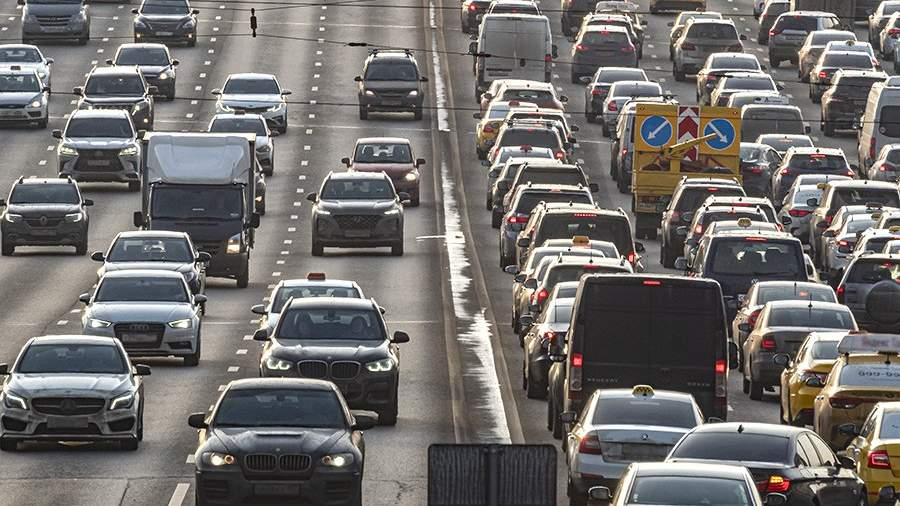Car: (547, 273, 728, 423), (187, 376, 379, 506), (252, 297, 410, 426), (133, 130, 260, 290), (558, 385, 708, 506), (0, 334, 153, 452), (663, 422, 868, 506), (631, 104, 743, 240), (78, 269, 208, 367), (691, 233, 809, 338), (739, 301, 860, 400), (814, 332, 900, 458), (92, 230, 212, 316), (728, 281, 839, 371), (772, 332, 866, 428), (305, 170, 409, 256), (503, 247, 605, 334), (588, 462, 787, 506), (518, 207, 645, 274), (499, 181, 594, 268), (808, 180, 900, 267), (50, 109, 145, 193), (470, 13, 558, 103), (655, 183, 747, 267), (251, 273, 366, 337), (0, 178, 93, 257), (837, 402, 900, 506), (341, 136, 427, 207), (525, 252, 634, 307), (519, 298, 576, 399), (72, 65, 154, 134), (818, 202, 900, 271), (511, 201, 600, 264), (836, 250, 900, 335), (199, 110, 280, 177), (355, 48, 428, 121), (489, 157, 563, 229), (498, 162, 599, 214), (210, 73, 292, 134), (768, 10, 852, 68), (774, 146, 859, 203), (853, 76, 900, 179), (677, 205, 770, 257), (654, 177, 740, 233), (481, 145, 555, 210), (673, 17, 749, 80), (820, 70, 888, 137), (105, 42, 179, 100), (569, 25, 639, 85), (577, 66, 649, 122), (473, 100, 539, 160), (515, 256, 558, 346), (696, 52, 766, 105), (602, 81, 663, 139), (808, 51, 876, 103), (823, 213, 881, 272), (488, 123, 569, 165), (740, 95, 810, 143), (17, 0, 90, 45), (130, 0, 199, 46), (0, 66, 50, 129), (798, 30, 858, 81), (701, 196, 785, 232), (570, 17, 642, 58), (0, 43, 55, 96), (484, 80, 569, 114), (777, 184, 824, 245), (668, 8, 723, 60), (512, 119, 575, 164), (839, 226, 900, 271), (685, 218, 780, 246), (710, 72, 784, 107), (547, 328, 570, 440), (740, 142, 783, 201), (561, 0, 626, 36), (505, 108, 579, 139), (782, 174, 853, 205), (476, 0, 540, 34), (790, 0, 856, 32), (529, 281, 580, 320), (477, 79, 527, 118), (614, 97, 681, 126), (582, 13, 642, 44), (824, 40, 882, 71), (616, 102, 673, 133), (865, 1, 900, 49), (540, 237, 620, 258), (756, 134, 817, 159), (864, 143, 900, 183), (618, 111, 635, 194), (758, 0, 790, 44), (588, 10, 648, 30), (878, 11, 900, 61), (460, 0, 493, 33), (727, 92, 777, 110), (610, 122, 624, 181), (650, 0, 706, 14), (255, 155, 267, 216), (855, 0, 884, 21), (595, 1, 638, 15), (715, 230, 794, 236), (874, 210, 900, 228), (877, 487, 900, 506), (804, 253, 817, 282), (891, 34, 900, 75), (882, 239, 900, 254), (753, 0, 765, 19), (889, 176, 900, 196), (856, 109, 864, 126)
